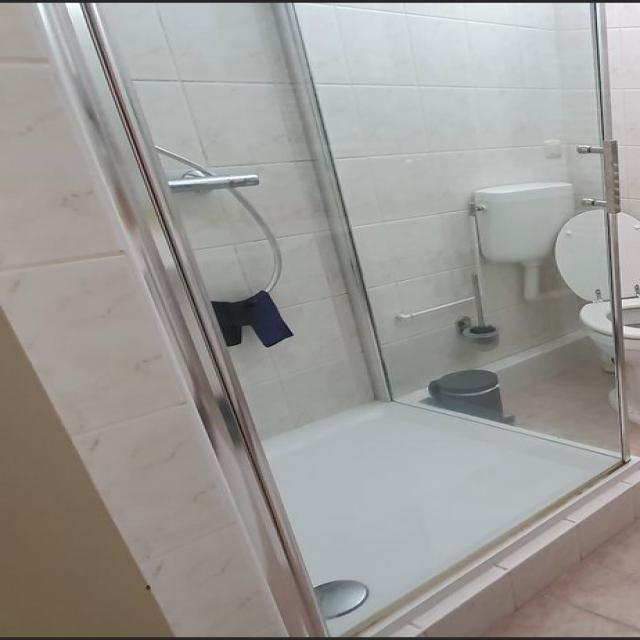douche: (29, 0, 640, 640)
toilet: (461, 178, 640, 426)
